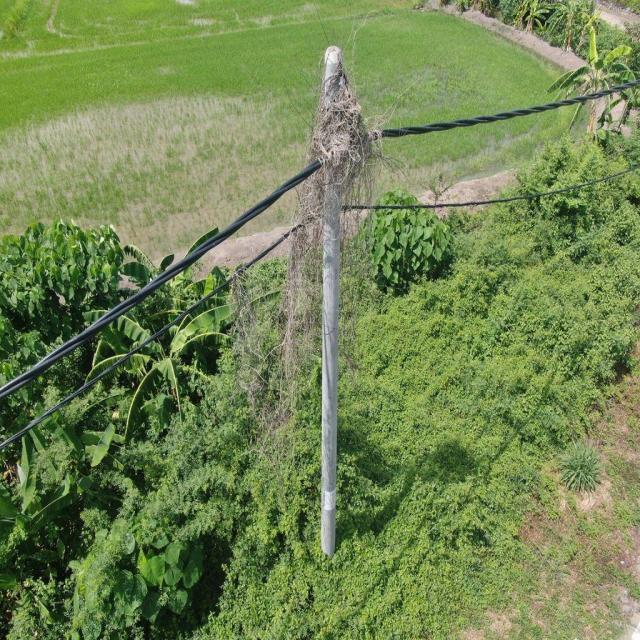critical vegetation: (283, 48, 386, 410)
